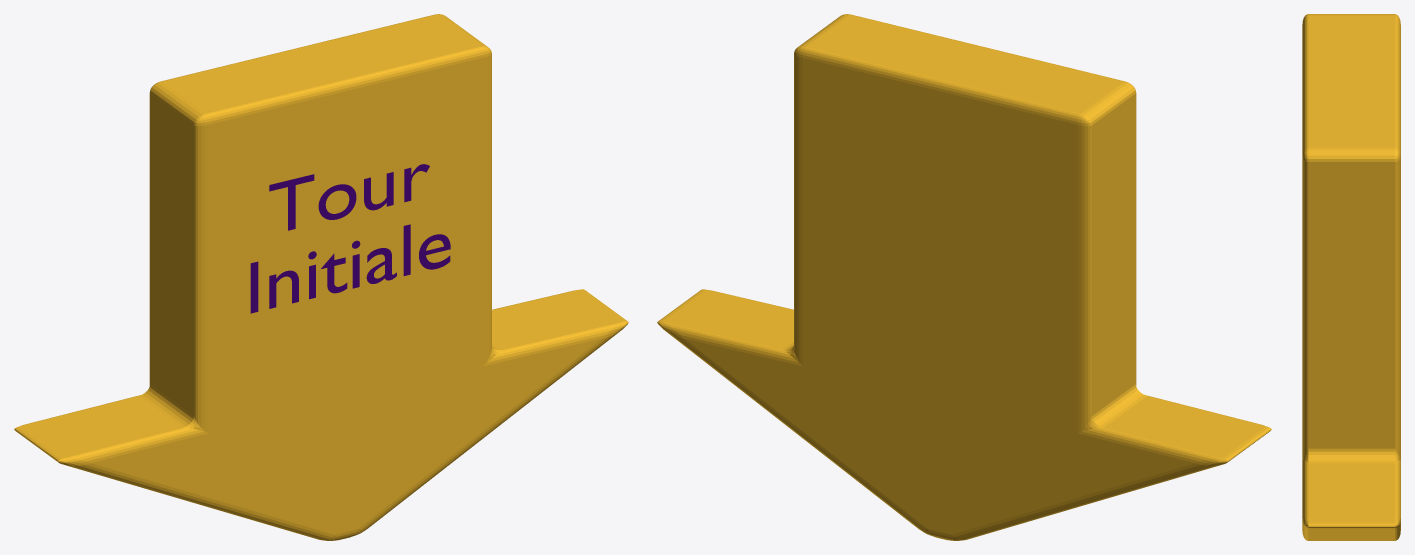
File: initiale_fleche.fbx
3 views of the same model, side by side, from view 1: azimuth 30°, elevation 25°; view 2: azimuth 150°, elevation 25°; view 3: azimuth 270°, elevation 25° (orthographic).
Parts seen in each view (by area): view 1: Plane.002, Text.001; view 2: Plane.002; view 3: Plane.002.
Boxes of the visible parts, x1,y1,x2,y2 form: Plane.002: [14, 14, 628, 540]; Text.001: [250, 164, 450, 313]; Plane.002: [657, 14, 1271, 540]; Plane.002: [1302, 14, 1400, 540].
Bounding box in the file's own units: 842 × 647 × 131.
